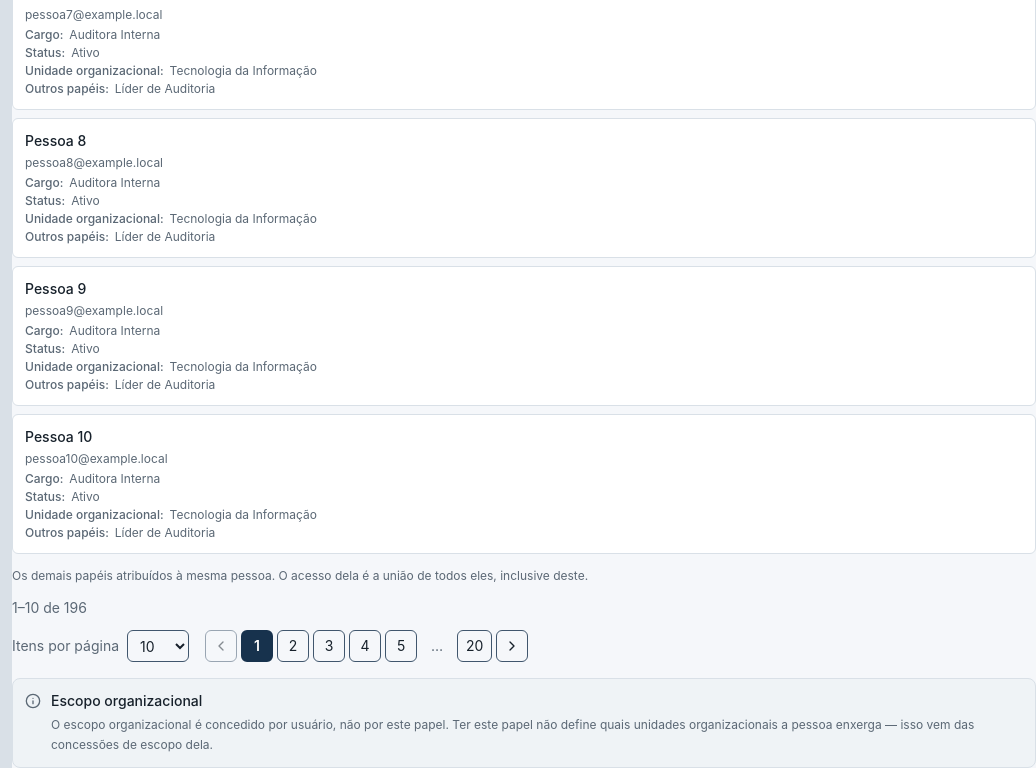
Test: RoleUsersTab — pagination above the contract cap (FR-024, NFR-006) › reaches the people past the old 100-person ceiling, on the last page
(page scrolled)
What coordinates should you click on to do the following:
click the button named "Ir para a página 5"
I would click on:
 (401, 646)
Its box is top-left (385, 630), bottom-right (417, 662).
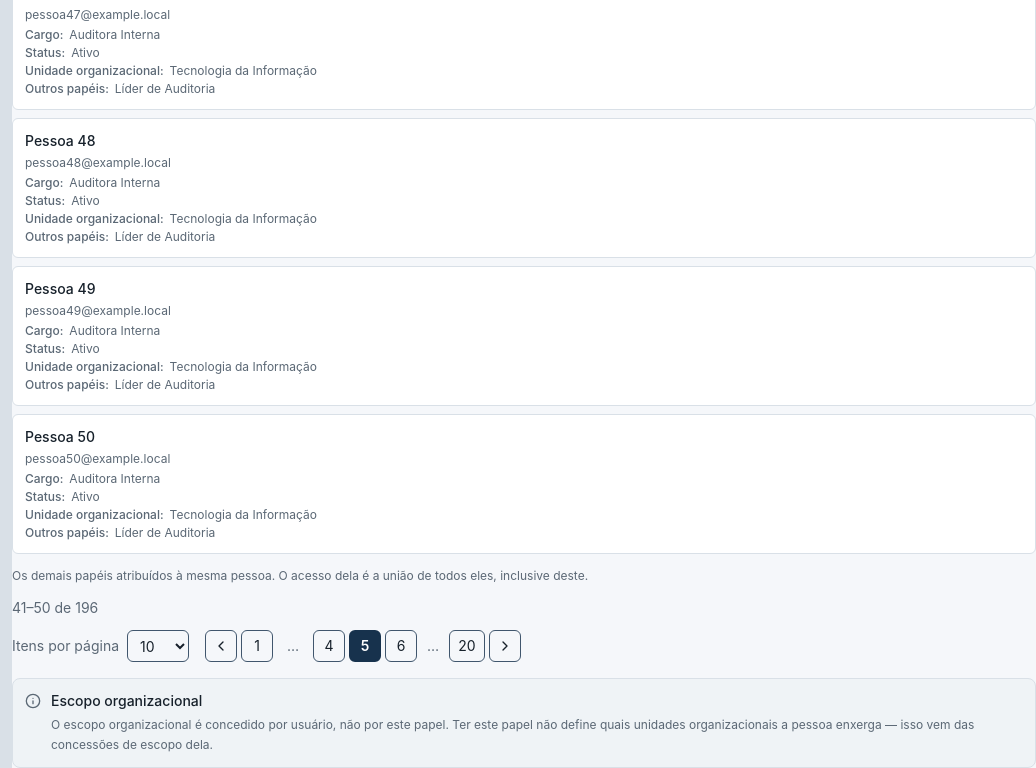
What coordinates should you click on to do the following:
click the button named "Ir para a página 20"
I would click on:
 (467, 646)
Its box is top-left (449, 630), bottom-right (484, 662).
(page scrolled)
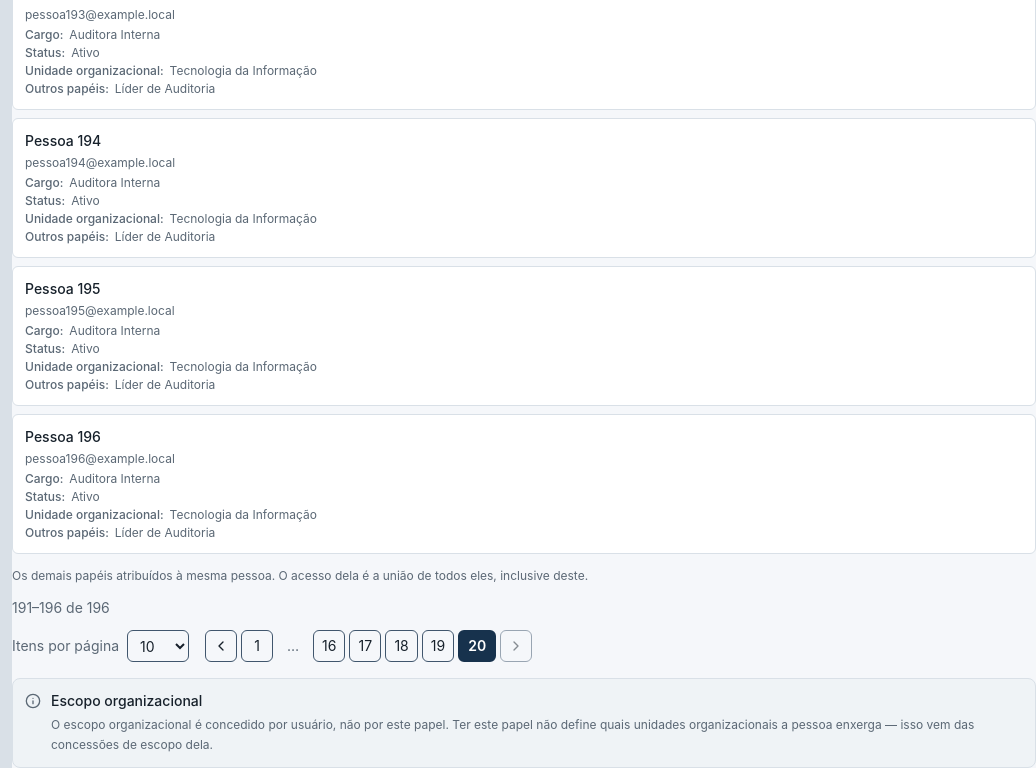
Now the text "Pessoa 196" is shown, box top-left (25, 428), bottom-right (101, 445)
Now the text "191–196 de 196" is shown, box top-left (12, 598), bottom-right (110, 618)
